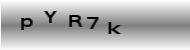7: (85, 16, 99, 29)
R: (67, 14, 83, 27)
Y: (43, 10, 57, 24)
k: (107, 21, 122, 35)
p: (19, 17, 33, 30)
